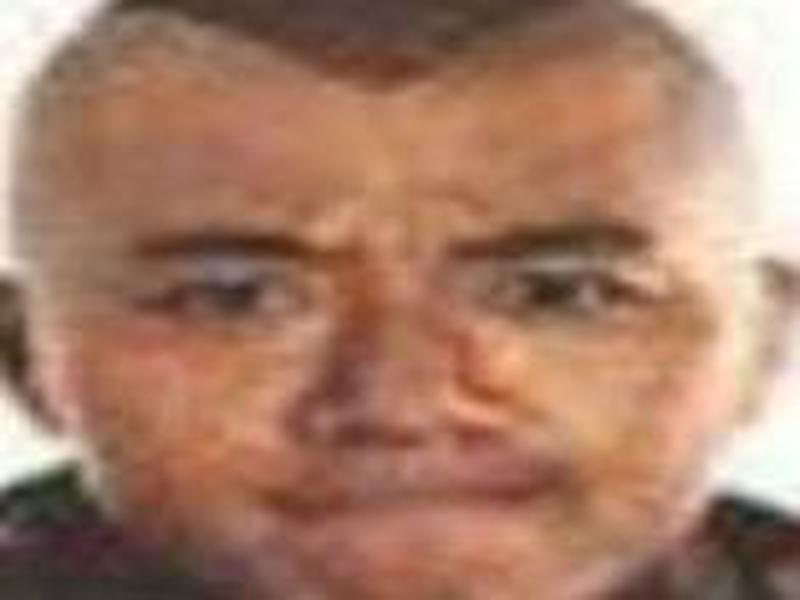without_mask: (16, 63, 753, 600)
